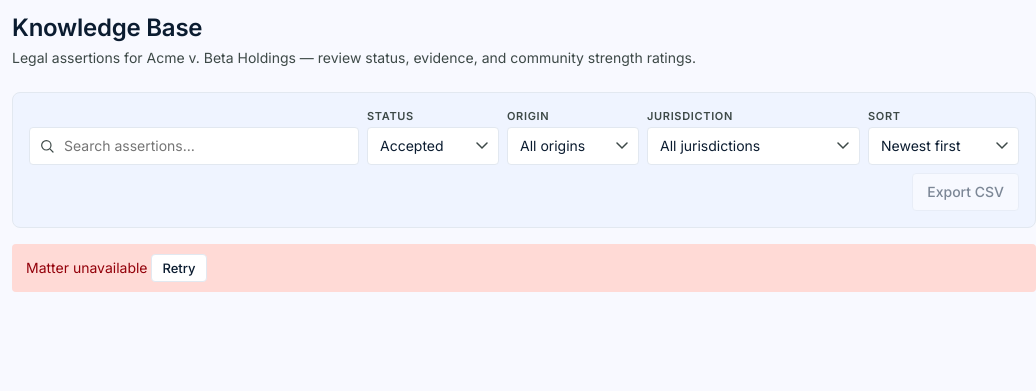
Scenario: KnowledgeBasePage › shows an error banner and retries on demand
Expected: the message shows "Matter unavailable", [26,259,148,276]
What coordinates should you click on to do the following:
click the button "Retry"
I would click on:
 (179, 268)
Its box is [152,254,206,282].
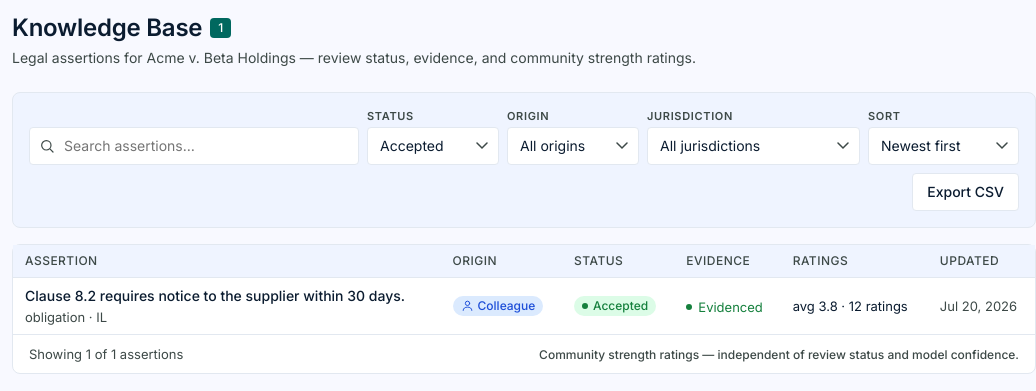
Expected: the link "Clause 8.2 requires notice to the supplier within 30 days." is shown, [25,287,405,304]
